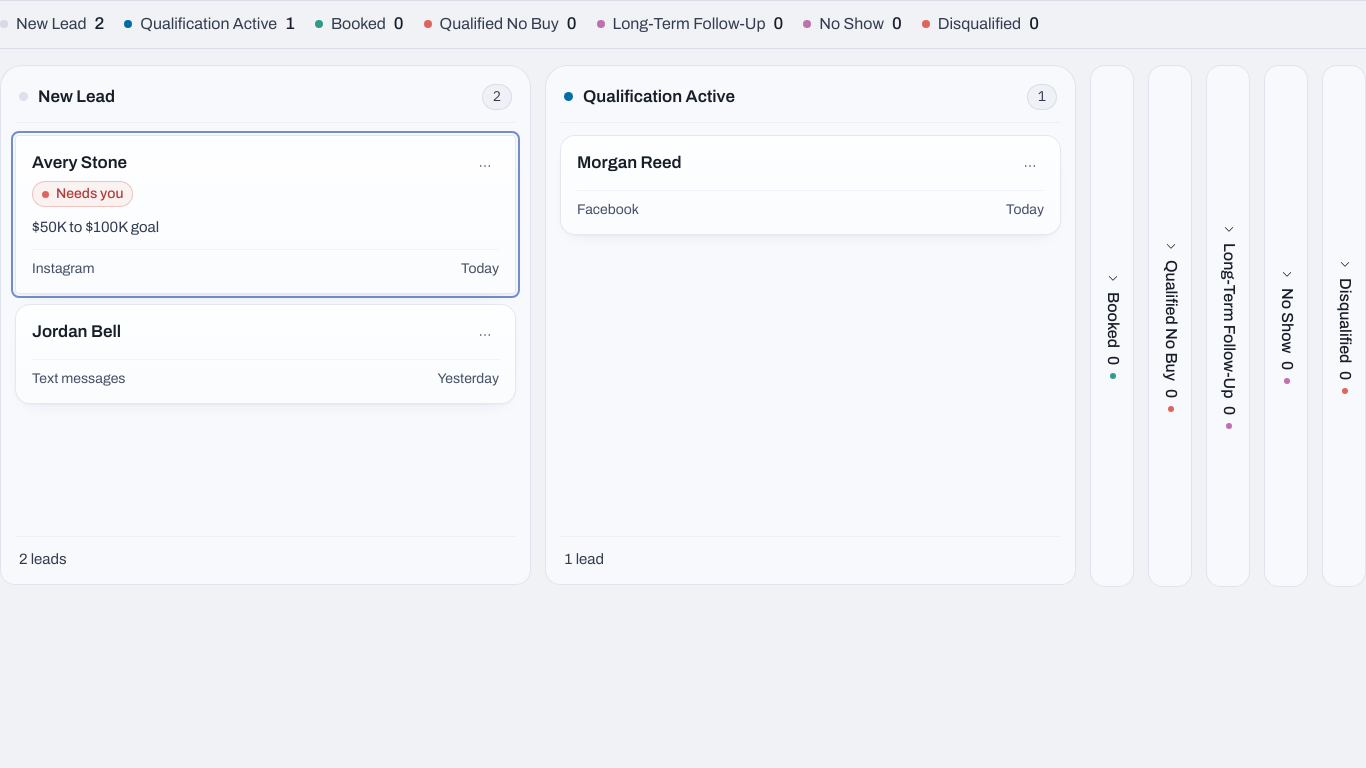
KanbanBoard › reviews and confirms a selected move
Type keys "M"
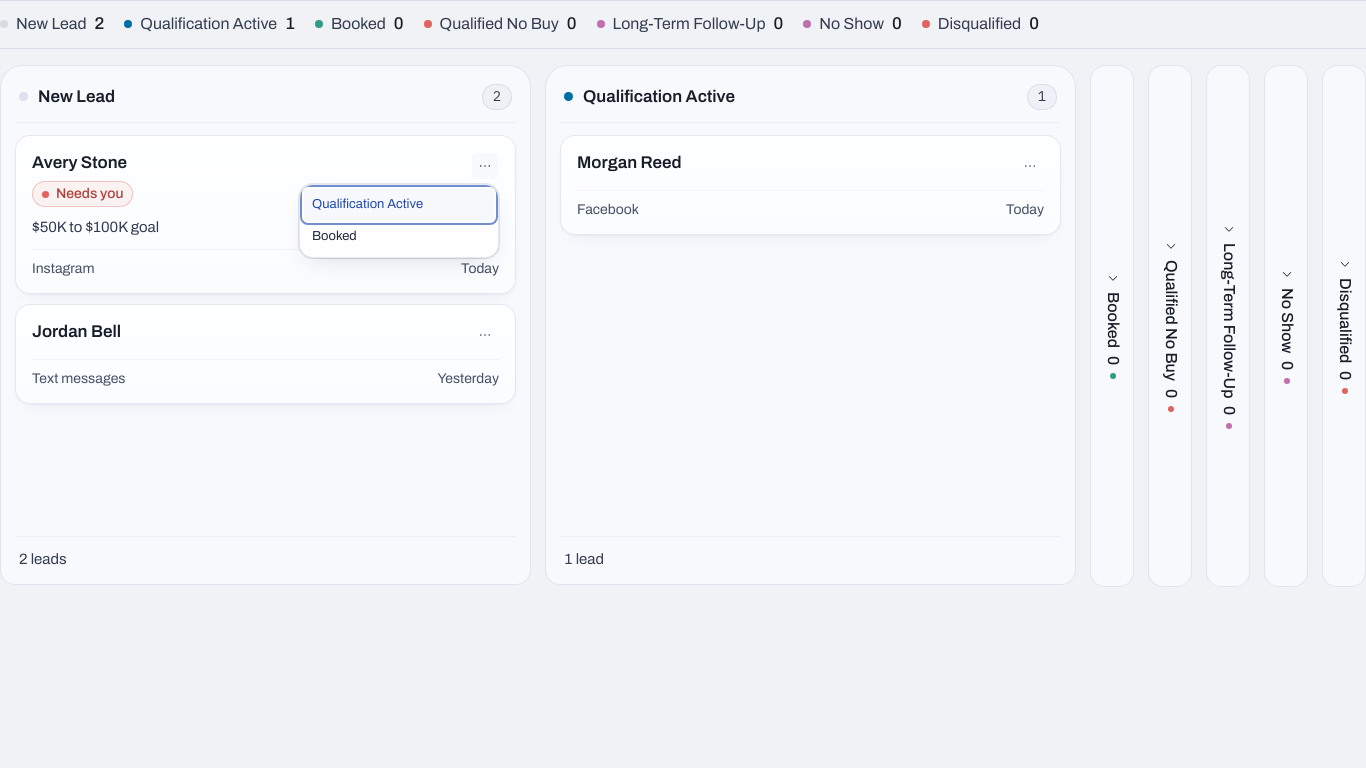
Click the menu item "Booked".
click(334, 236)  # box [312, 229, 357, 243]
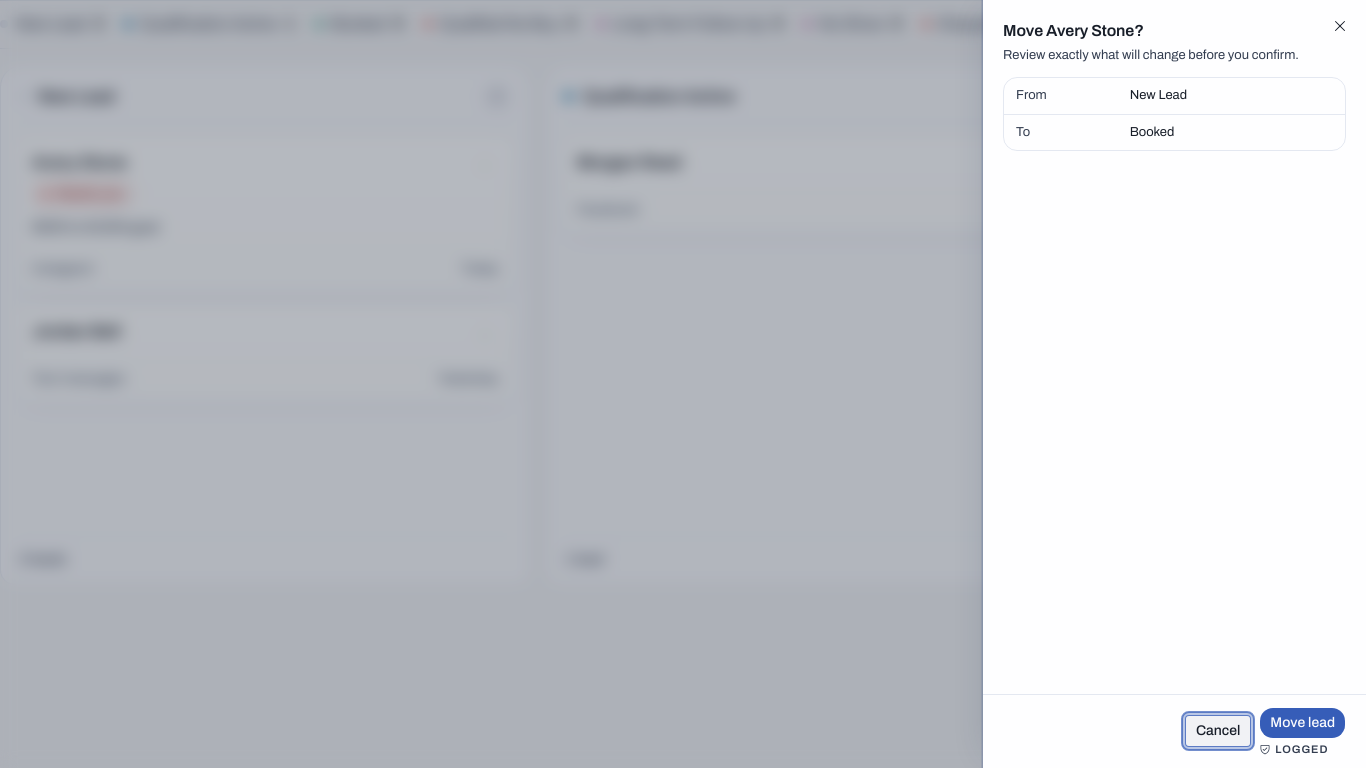
Now the dialog is shown, box [982, 0, 1365, 767]
Now the text "New Lead" is shown, box [1130, 88, 1187, 102]
Click the button "Move lead".
click(1303, 723)  # box [1259, 707, 1346, 739]
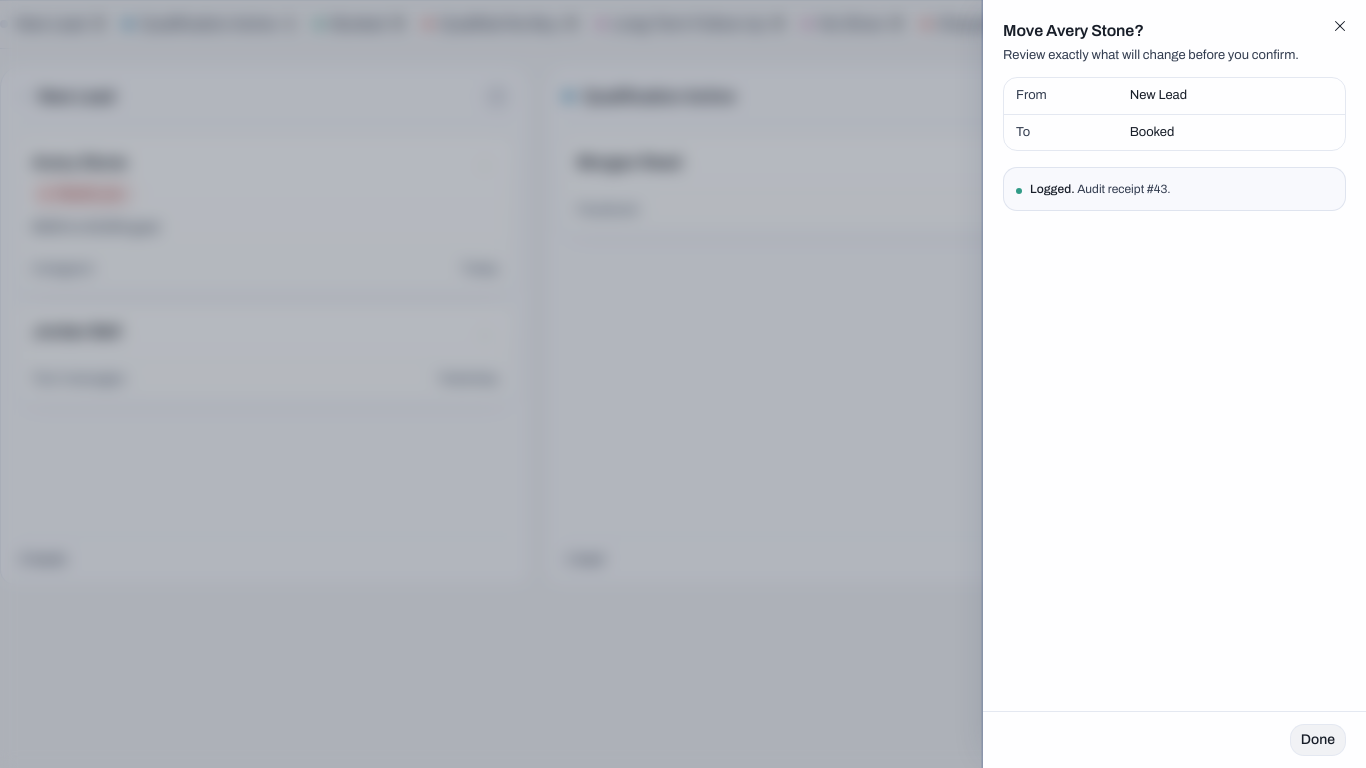
Now the text "Logged. Audit receipt #43." is shown, box [1030, 180, 1171, 198]
